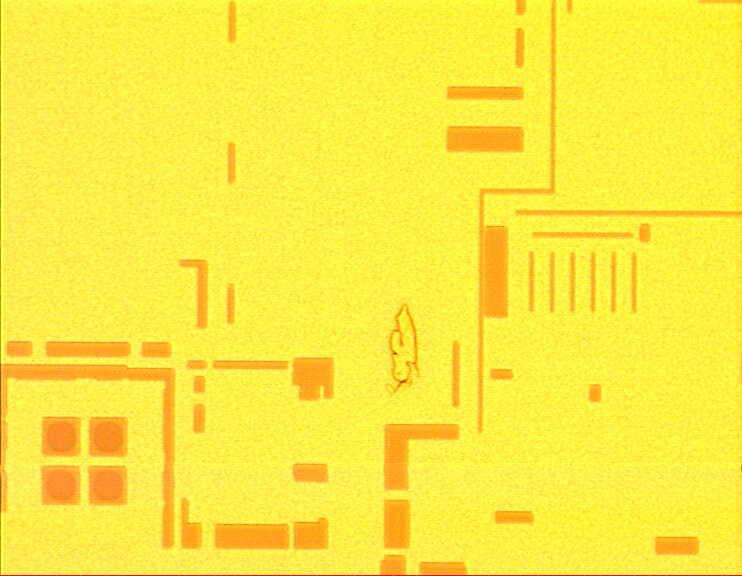PIQ PARTICLE: (377, 294, 429, 400)
